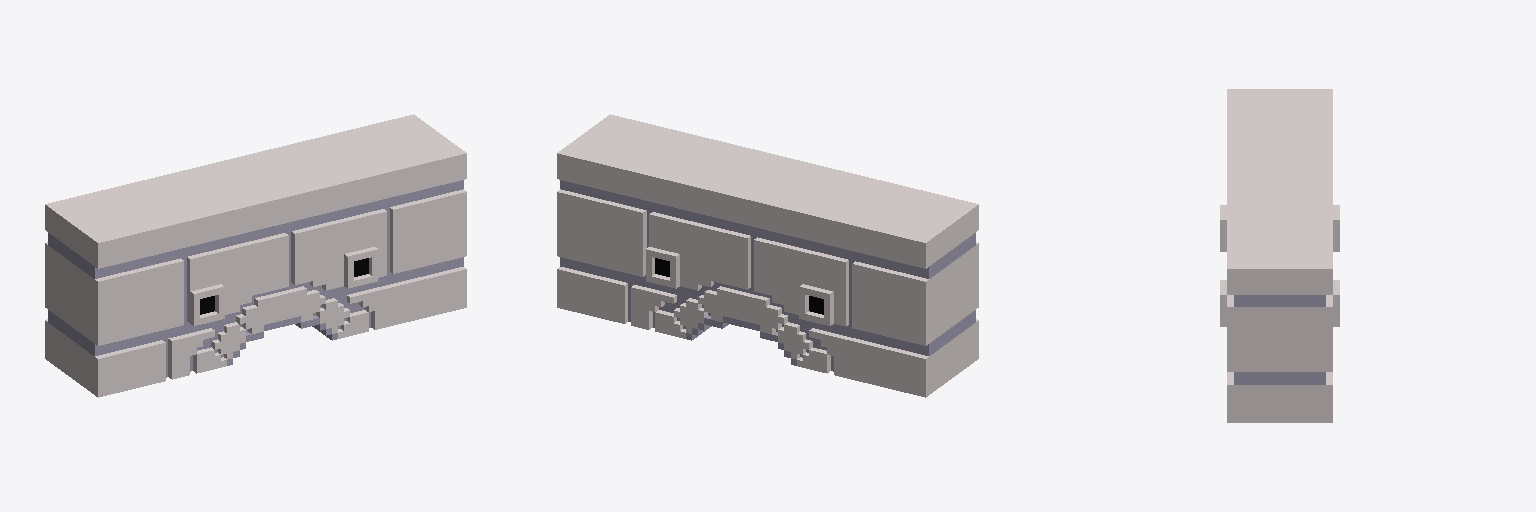
3 views of the same model, side by side, from view 1: azimuth 30°, elevation 25°; view 2: azimuth 150°, elevation 25°; view 3: azimuth 270°, elevation 25° (orthographic).
Parts seen in each view (by area): view 1: object 1; view 2: object 1; view 3: object 1.
Part boxes in pixels (x1,y1,x2,y2): object 1: (45, 114, 466, 397); object 1: (557, 114, 978, 397); object 1: (1220, 89, 1339, 422).
Size of the model in its own units: 6 by 2.4 by 1.7.
1 materials, 1 textured.